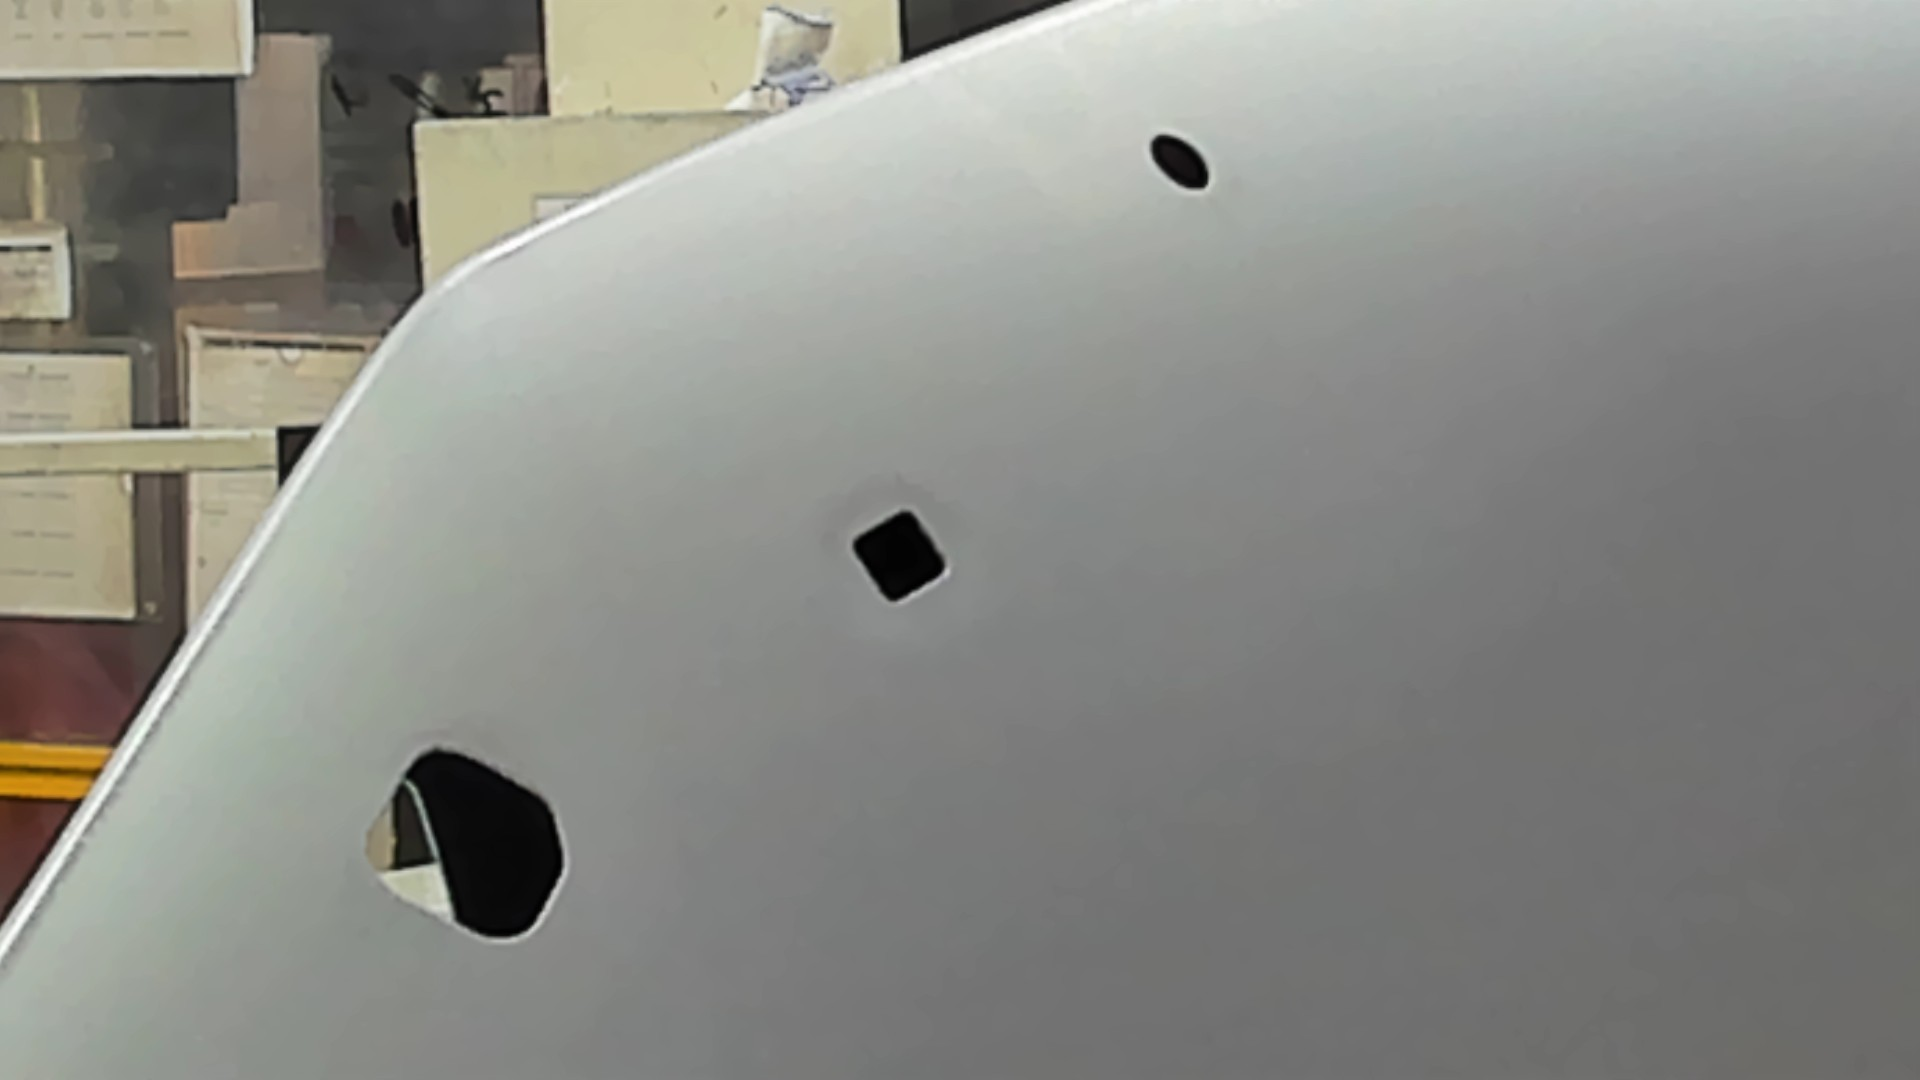capo: (961, 194, 1920, 1080)
chico: (1146, 128, 1215, 195)
grande: (356, 741, 571, 949)
mediano: (845, 498, 957, 611)
